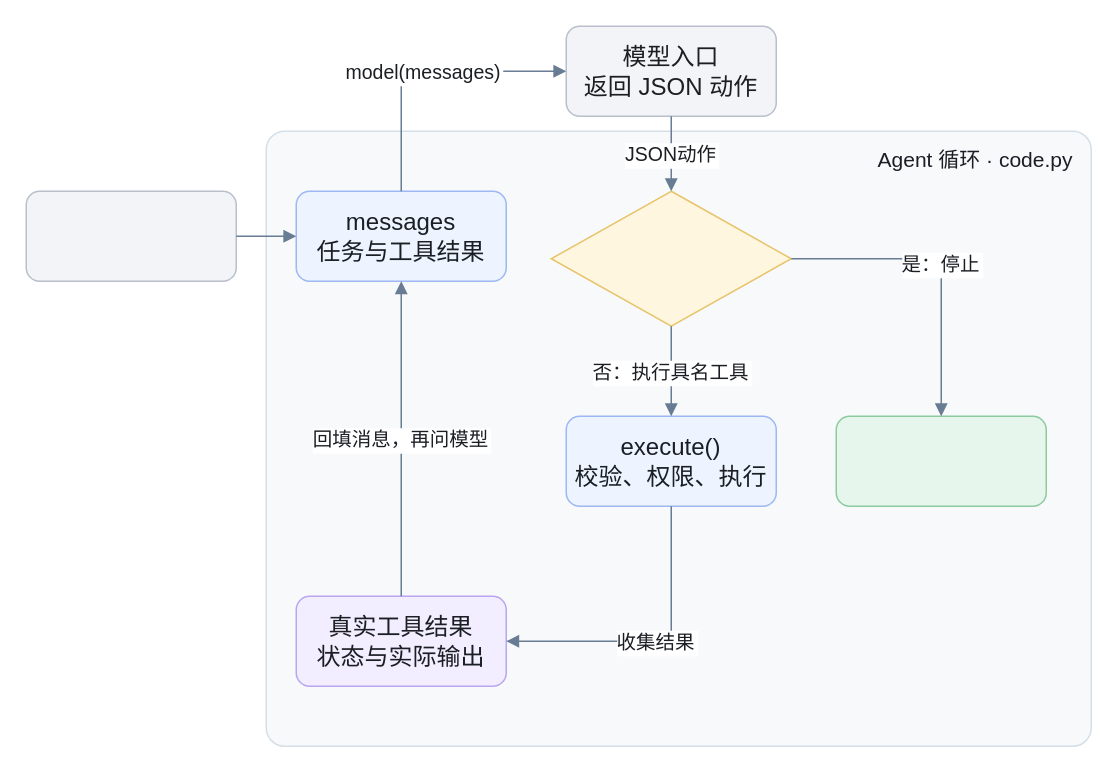
Image size: 1118x773. Some labels were removed from this diagram. The box of each missing label's shape, as (x1, y1, x2, y2) in pixels:
finished 停止工具调用: (835, 415, 1046, 506)
tool_calls 为空？: (550, 190, 791, 326)
用户任务 读写文件: (25, 190, 236, 281)
